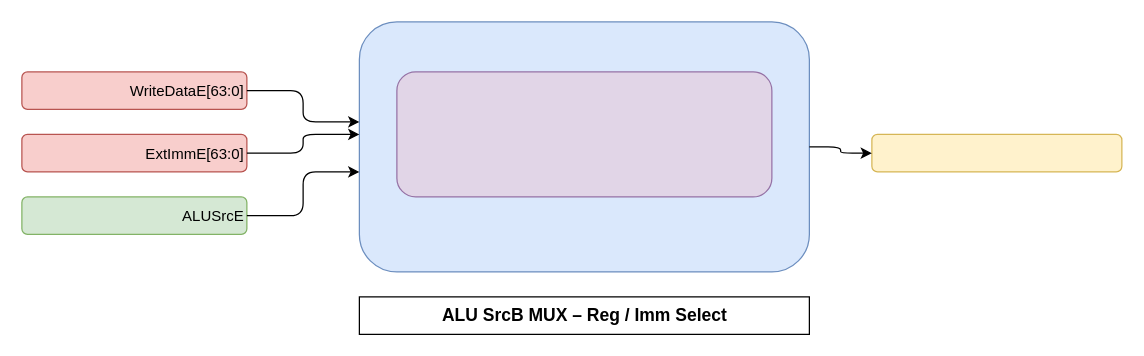
This 1144x356 diagram has some shape labels left out. The centre of each missing label's shape, as x and y in pixels:
"SrcBE Selection Logic 0 : WriteDataE 1 : ExtImmE" goes at pixel 584 134.
"SrcBE[63:0]" goes at pixel 996 152.
